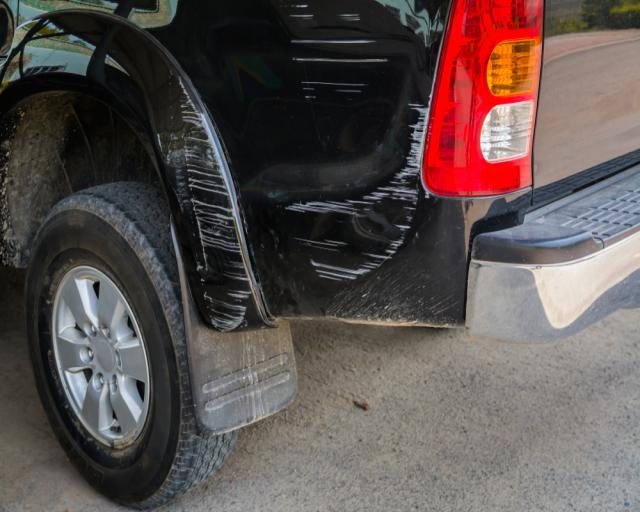scratch: (284, 98, 432, 282), (158, 78, 253, 334), (282, 0, 389, 122)
